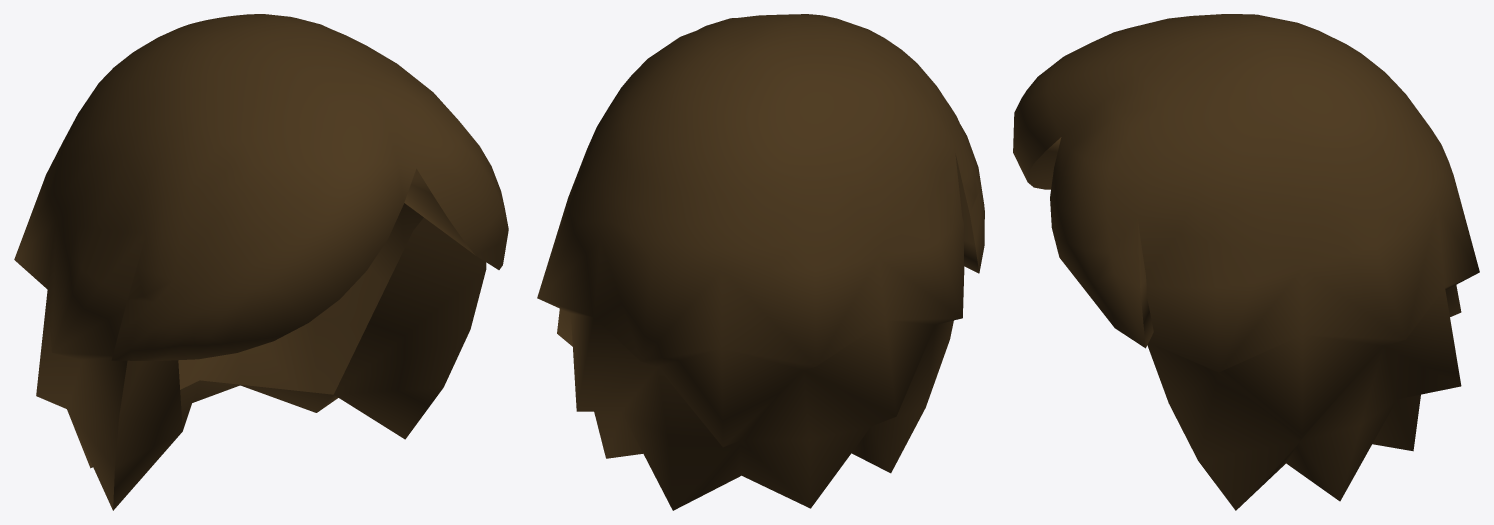
File: hair_042.gltf
3 renders of one model, left to right at view 1: azimuth 30°, elevation 25°; view 2: azimuth 150°, elevation 25°; view 3: azimuth 270°, elevation 25°, orthographic. The views are drawn at different scales.
Visible parts, largest first — view 1: hair.134; view 2: hair.134; view 3: hair.134.
Part boxes in pixels (box(x1,y1,x2,y2)): hair.134: box(14, 14, 508, 510); hair.134: box(537, 14, 984, 510); hair.134: box(1013, 14, 1479, 510).
Bounding box in the file's own units: 0.1342 × 0.1329 × 0.1339.
